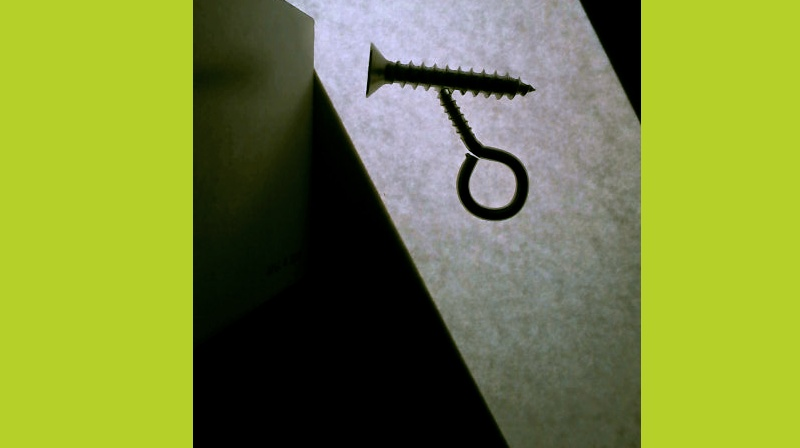O001: (431, 84, 529, 221)
S001: (365, 36, 536, 98)
